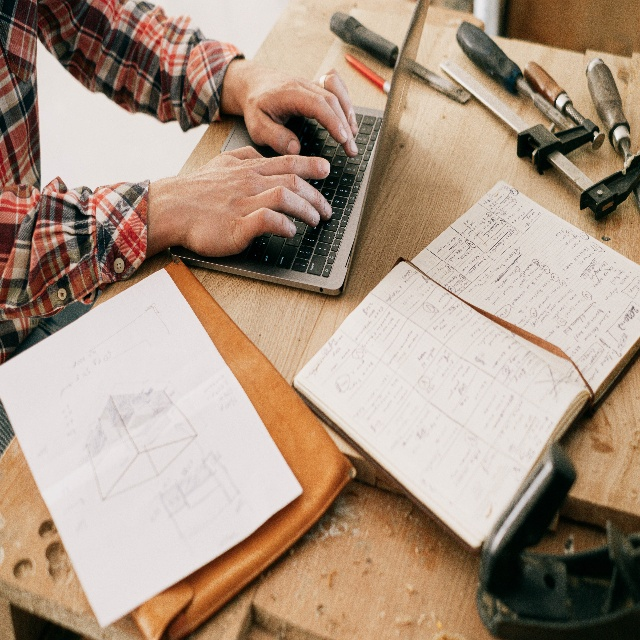Sin_guantes: (174, 144, 334, 259), (243, 67, 359, 158)
